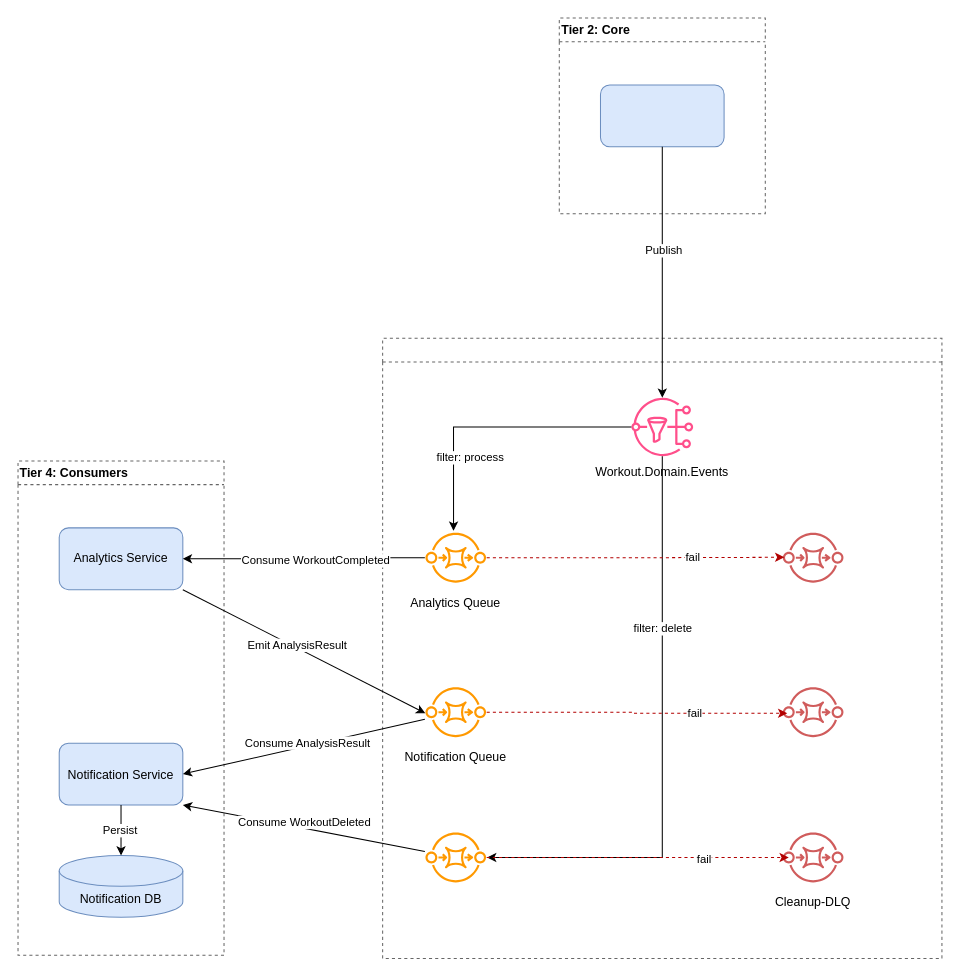
Some shapes in this 960 by 976 pixel diagram are drawn without their labels. Here are the shapes that lost their labels. From the top down, the box of each, then its label:
(599, 84, 724, 147): Workout Management Service
(782, 526, 844, 588): Analytics -DLQ
(382, 337, 942, 958): Tier 3: Messaging (HA)
(782, 681, 844, 743): Notification-DLQ
(424, 826, 486, 888): Cleanup Queue
